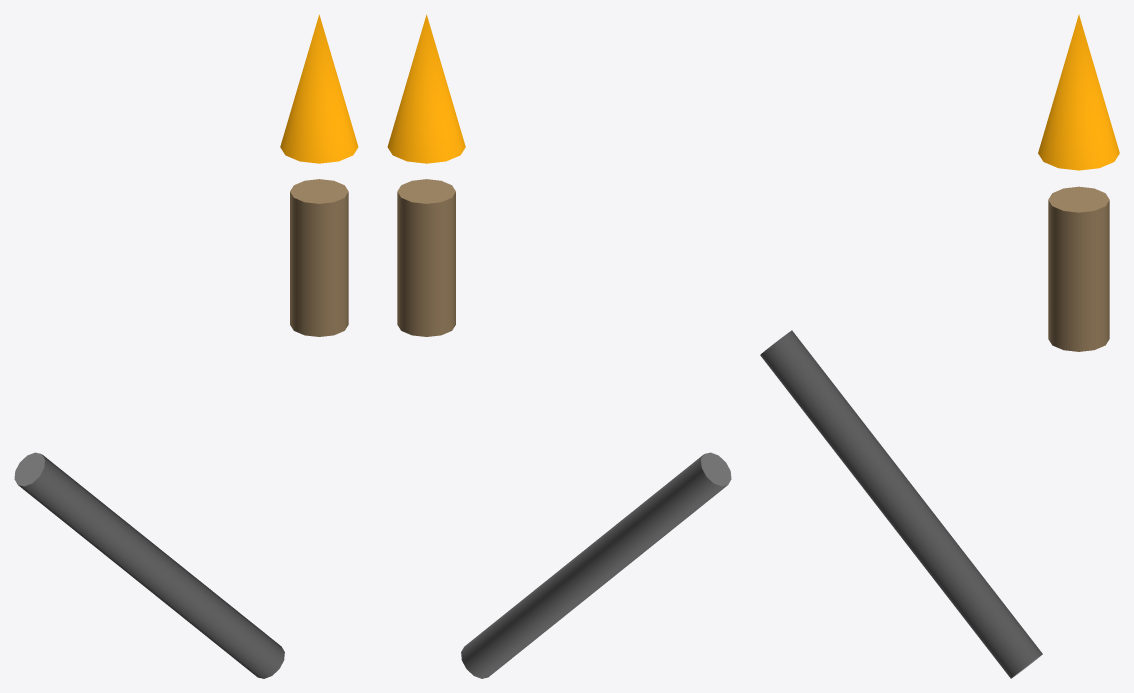
File: env-med-torch.glb
3 renders of one model, left to right at view 1: azimuth 30°, elevation 25°; view 2: azimuth 150°, elevation 25°; view 3: azimuth 330°, elevation 25°, orthographic. The views are drawn at different scales.
Size of the model in its own units: 0.3956 by 0.7306 by 0.08.
